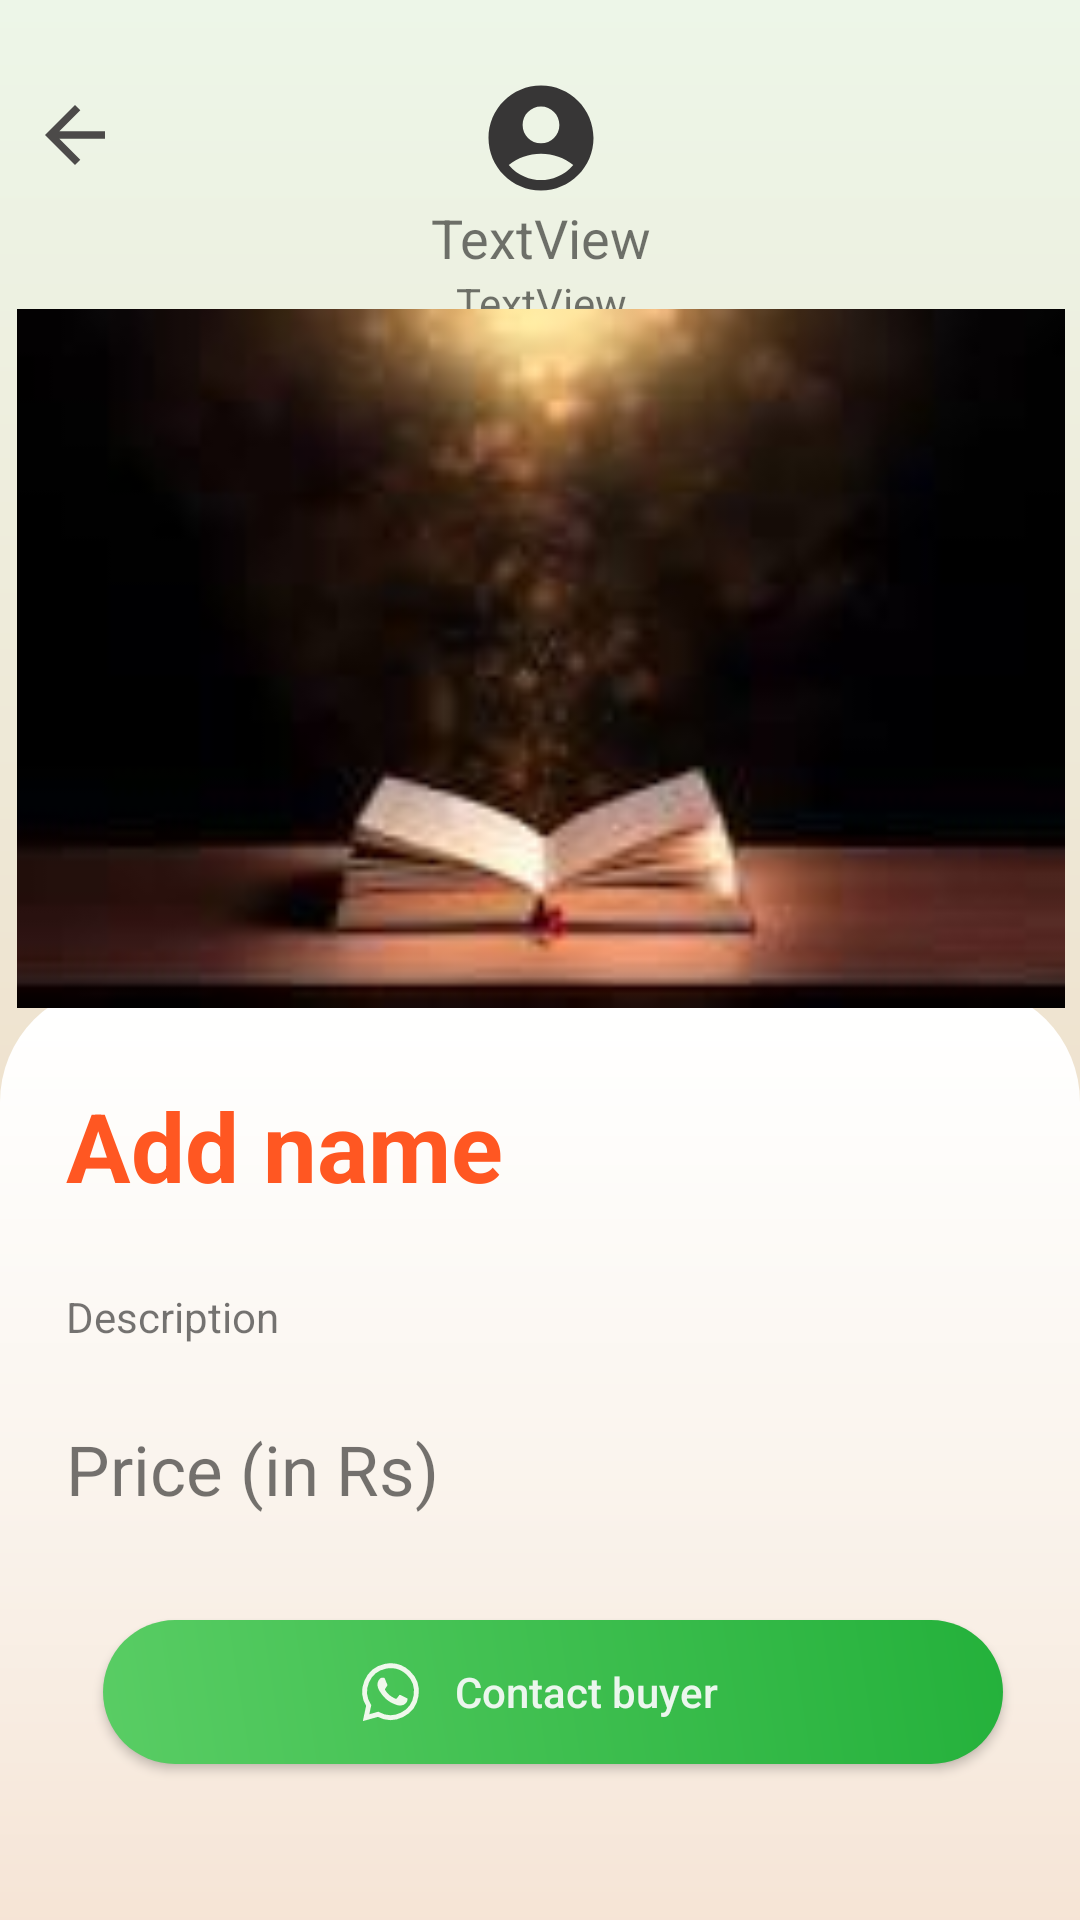

Icon bounding boxes for this 1080*1920 phone screenshot, format (x1,y1,x2,y2):
back: (45,105,105,165)
user: (488,85,594,191)
